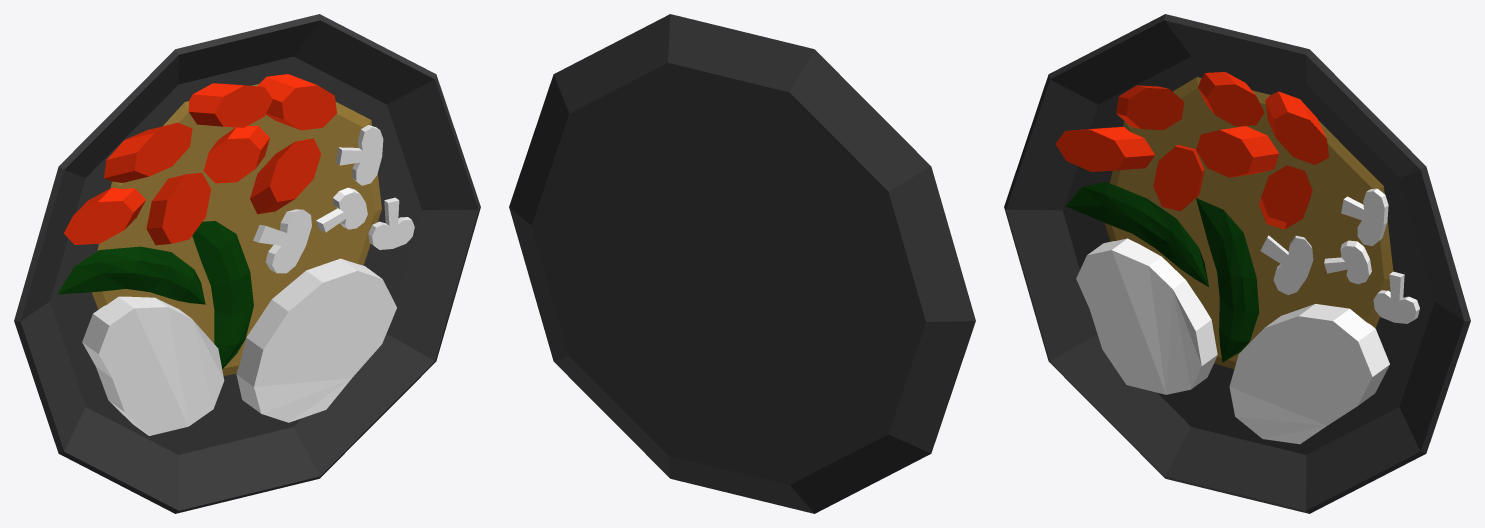
3 renders of one model, left to right at view 1: azimuth 30°, elevation 25°; view 2: azimuth 150°, elevation 25°; view 3: azimuth 330°, elevation 25°, orthographic.
Visible parts, largest first — view 1: d food; view 2: d food; view 3: d food.
Boxes of the visible parts, x1,y1,x2,y2 form: d food: (14, 14, 480, 513); d food: (509, 14, 975, 513); d food: (1004, 14, 1470, 513).
Size of the model in its own units: 10.32 by 9.81 by 0.8307.
